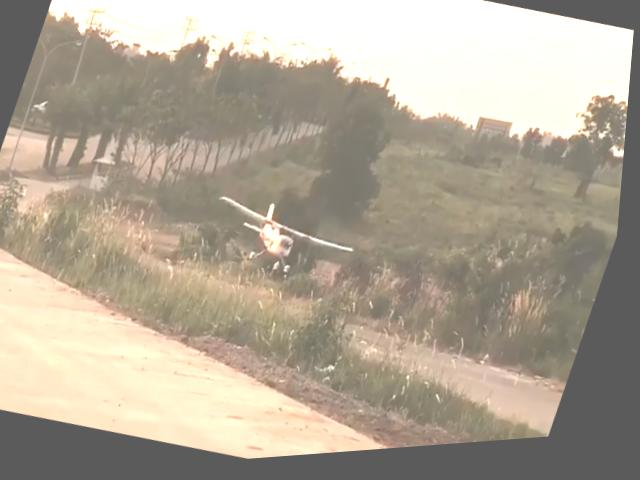plane: (204, 186, 370, 299)
